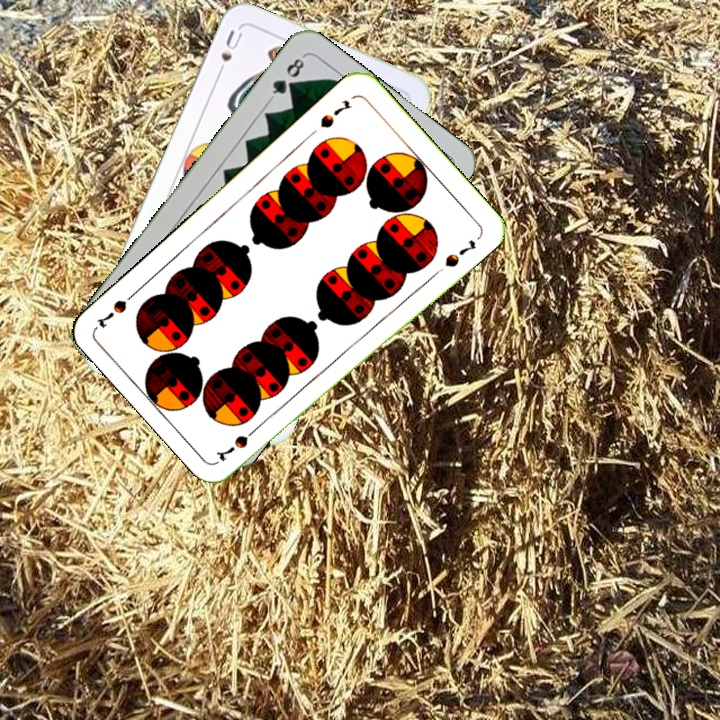G8: (266, 52, 307, 102)
S7: (214, 420, 263, 464), (316, 95, 354, 131)
SU: (212, 26, 245, 81)
